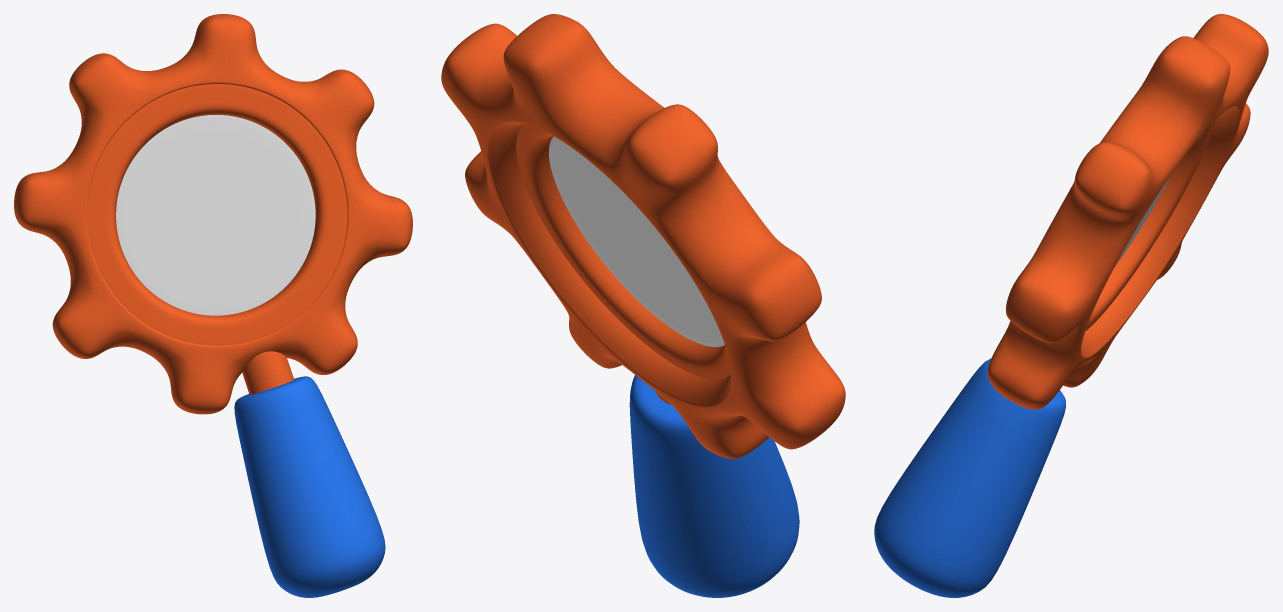
Rendered from research-and-development-3d-animated-icon-405694171358.glb.
3 renders of one model, left to right at view 1: azimuth 30°, elevation 25°; view 2: azimuth 150°, elevation 25°; view 3: azimuth 270°, elevation 25°, orthographic. The views are drawn at different scales.
Visible parts, largest first — view 1: magnifying glass, gear; view 2: gear, magnifying glass; view 3: gear, magnifying glass.
Part boxes in pixels (left/top/right/bottom): magnifying glass: left=87, top=84, right=385, bottom=597; gear: left=14, top=14, right=412, bottom=414; gear: left=441, top=14, right=845, bottom=458; magnifying glass: left=516, top=124, right=799, bottom=597; gear: left=987, top=14, right=1268, bottom=409; magnifying glass: left=874, top=120, right=1215, bottom=597.
Bounding box in the file's own units: 2.05 × 3.02 × 1.95.
